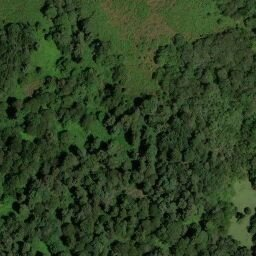forest: (3, 135, 236, 256), (153, 29, 256, 176), (45, 65, 126, 132), (1, 20, 38, 77), (103, 95, 155, 134)
